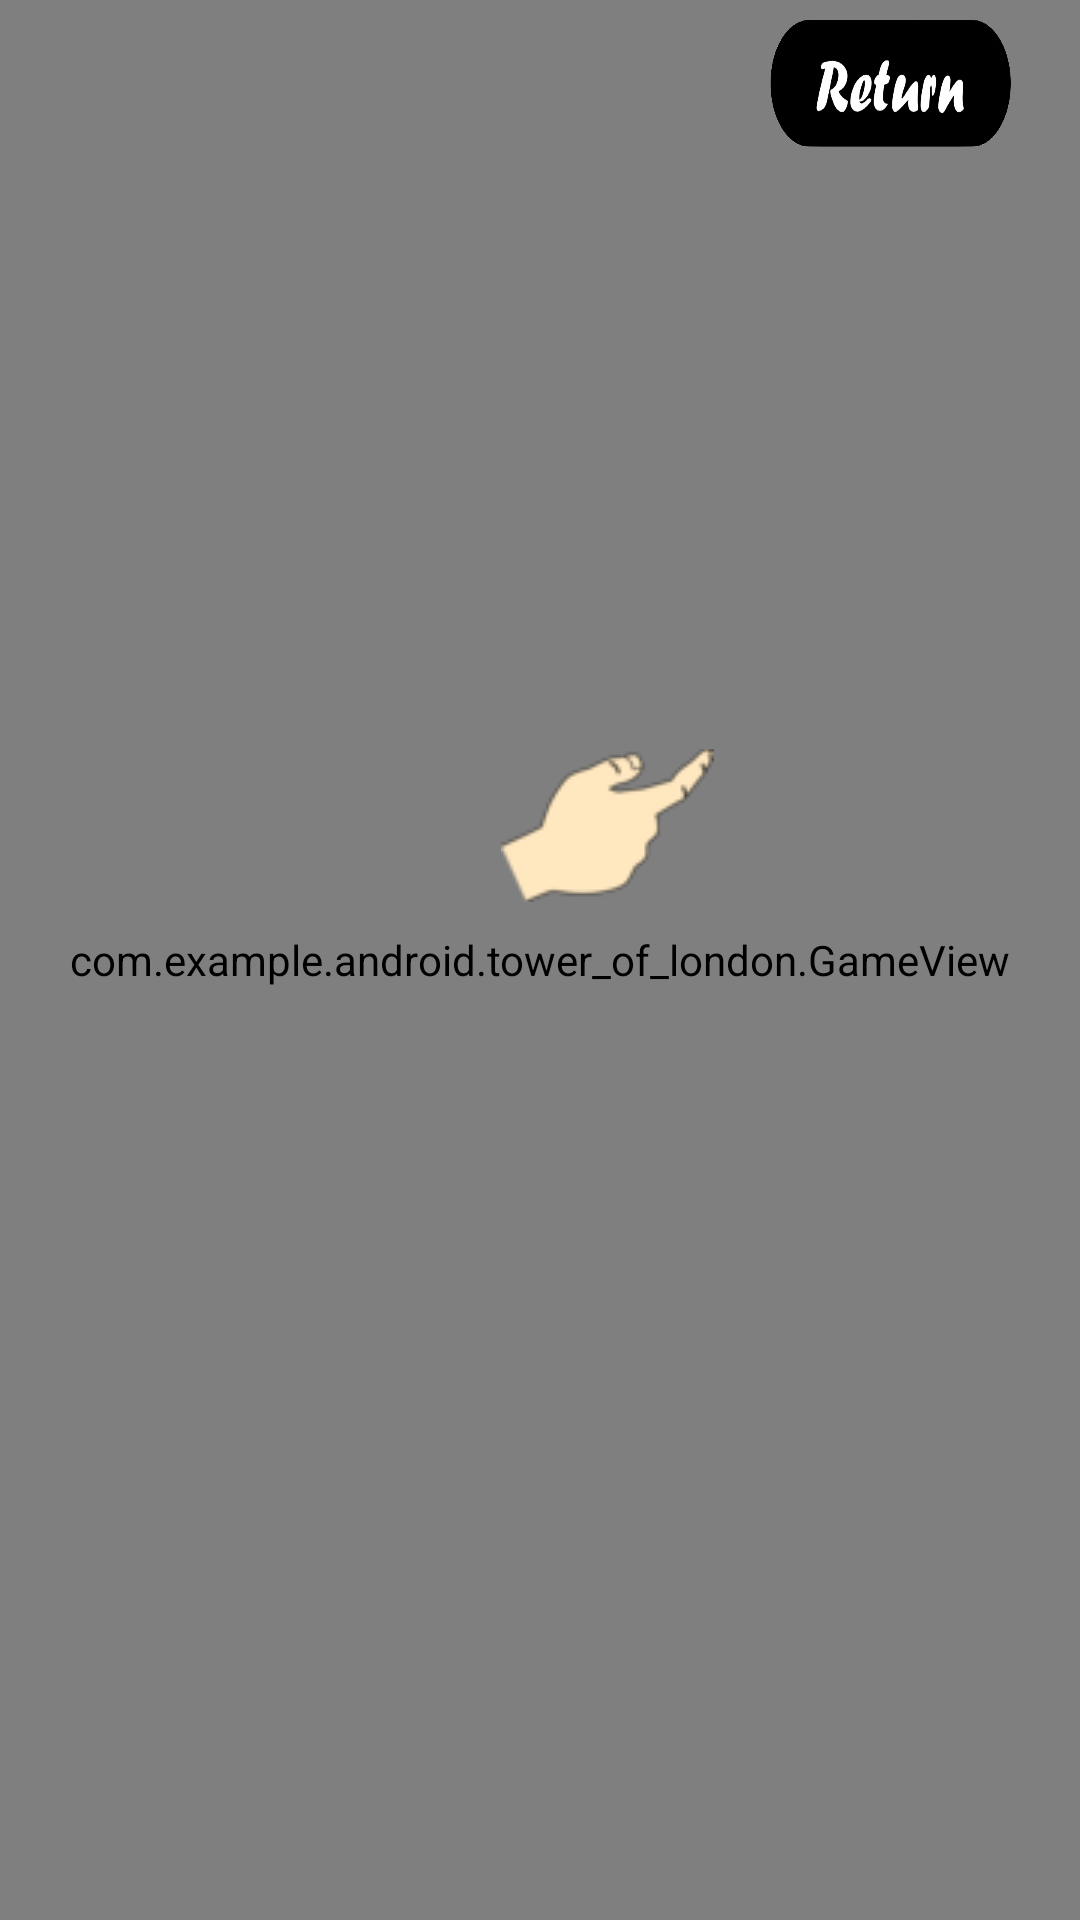

Named icons in this screenshot (1080*1920) and their bounding boxes, (x1, y1, x2, y2):
hand: (501, 749, 714, 902)
